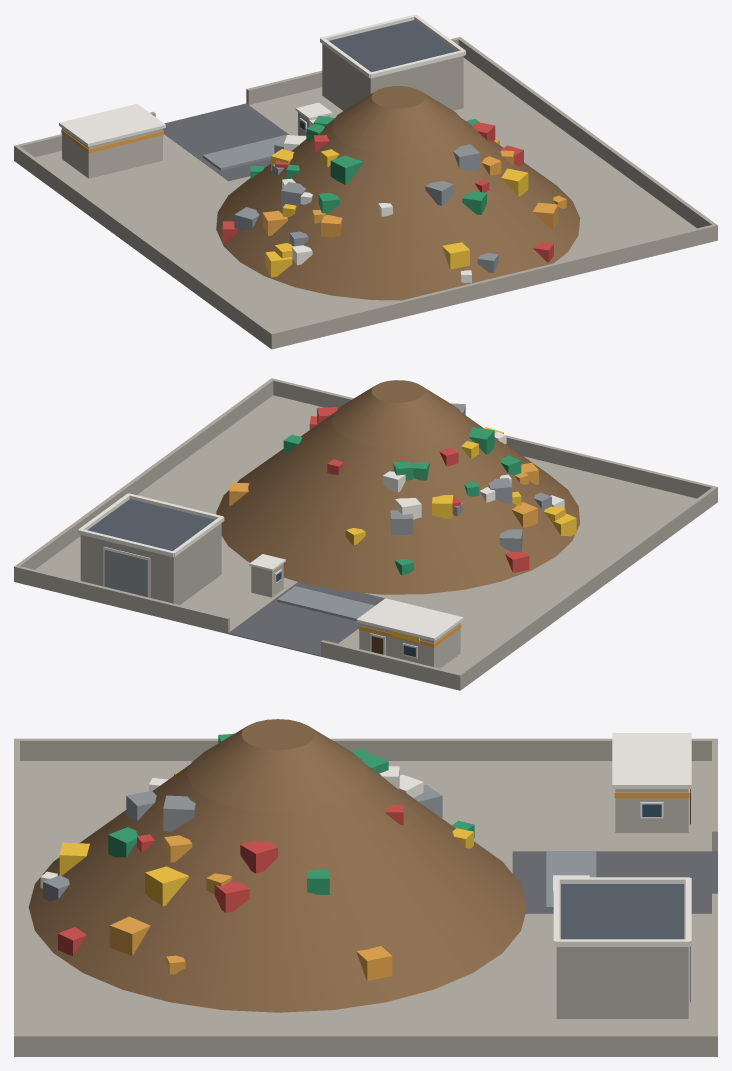
The model's file is landfill.glb.
3 views of the same model, one above another, from view 1: azimuth 30°, elevation 25°; view 2: azimuth 150°, elevation 25°; view 3: azimuth 270°, elevation 25° (orthographic). The views are drawn at different scales.
Parts seen in each view (by area): view 1: heap, ground, boundary_wall (×5), heap_top, truck_shed, entrance_road, roof, site_office, office_roof, rubbish (×4), weighbridge, parapet (×2); view 2: heap, ground, boundary_wall (×5), heap_top, truck_shed, entrance_road, roof, office_roof, site_office, weighbridge, garage_door, parapet (×2) (+2 smaller); view 3: heap, ground, boundary_wall (×5), heap_top, truck_shed, rubbish (×12), roof, entrance_road, office_roof, site_office, parapet (×2), weighbridge (+1 smaller).
Boxes of the visible parts, <box> form: heap: <box>216,118,580,300</box>; ground: <box>14,58,717,349</box>; boundary_wall (×5): <box>14,37,717,348</box>; heap_top: <box>332,86,464,154</box>; truck_shed: <box>322,44,463,110</box>; entrance_road: <box>163,103,288,181</box>; roof: <box>329,20,456,72</box>; site_office: <box>62,128,162,178</box>; office_roof: <box>59,104,165,146</box>; rubbish (×4): <box>330,144,528,269</box>; weighbridge: <box>202,134,286,170</box>; parapet (×2): <box>320,14,465,78</box>; heap: <box>216,412,580,594</box>; ground: <box>14,395,717,690</box>; boundary_wall (×5): <box>14,378,717,689</box>; heap_top: <box>332,380,464,448</box>; truck_shed: <box>80,523,221,604</box>; entrance_road: <box>228,582,384,656</box>; roof: <box>87,499,215,550</box>; office_roof: <box>356,598,463,641</box>; site_office: <box>359,622,460,668</box>; weighbridge: <box>277,586,374,621</box>; garage_door: <box>104,549,147,597</box>; parapet (×2): <box>78,493,223,557</box>; heap: <box>28,764,526,1012</box>; ground: <box>14,761,717,1056</box>; boundary_wall (×5): <box>14,738,717,1055</box>; heap_top: <box>187,719,368,812</box>; truck_shed: <box>556,885,688,1018</box>; rubbish (×12): <box>58,791,392,980</box>; roof: <box>561,884,684,939</box>; entrance_road: <box>512,851,717,913</box>; office_roof: <box>612,733,691,788</box>; site_office: <box>615,789,688,832</box>; parapet (×2): <box>555,877,689,946</box>; weighbridge: <box>546,851,596,910</box>.
Bounding box in the file's own units: 48 × 13.06 × 48.
